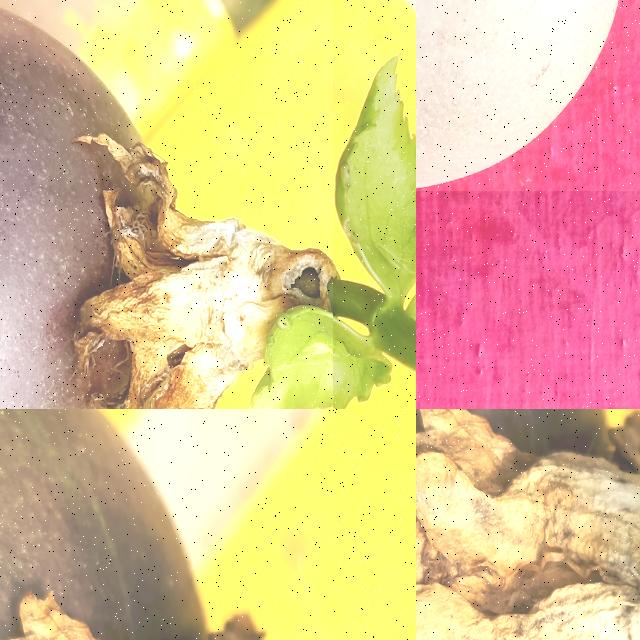Estado-3: (416, 0, 617, 188)
Estado-4: (416, 409, 640, 640)
Estado-6: (0, 10, 332, 409)
